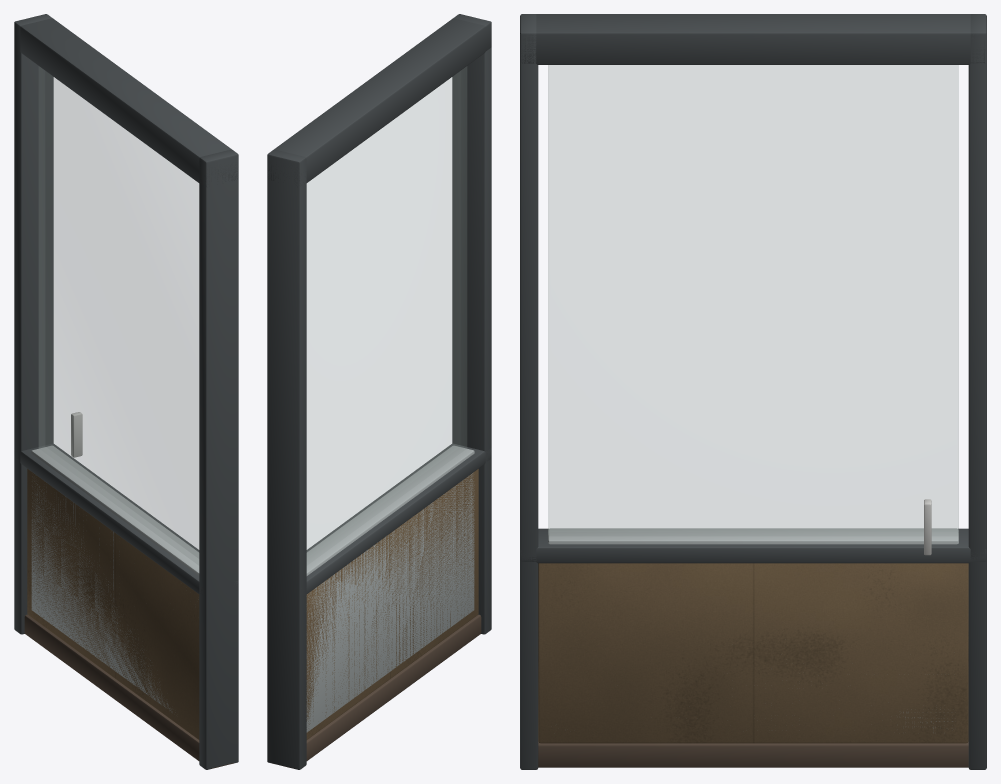
The model's file is outpost_glass_door.glb.
3 views of the same model, side by side, from view 1: azimuth 30°, elevation 25°; view 2: azimuth 150°, elevation 25°; view 3: azimuth 270°, elevation 25° (orthographic). The views are drawn at different scales.
Parts seen in each view (by area): view 1: doorglass, endpost, dado, endpost.001, doorpanel, header, sill, cove, pullhandle; view 2: doorglass, doorpanel, endpost.001, endpost, dado, header, sill, cove; view 3: doorglass, dado, header, endpost.001, endpost, cove, sill, doorpanel.
Boxes of the visible parts, x1,y1,x2,y2 form: doorglass: (39,66,198,564); endpost: (199,149,238,769); dado: (27,469,199,739); endpost.001: (14,14,53,634); doorpanel: (31,445,199,712); header: (20,18,238,186); sill: (14,443,238,594); cove: (24,614,233,768); pullhandle: (71,412,82,457); doorglass: (307,66,466,564); doorpanel: (306,445,474,732); endpost.001: (267,149,306,769); endpost: (452,14,491,634); dado: (306,469,478,739); header: (267,18,491,183); sill: (268,443,491,595); cove: (272,614,481,768); doorglass: (548,65,958,535); dado: (538,563,968,743); header: (521,14,985,64); endpost.001: (968,14,986,769); endpost: (520,14,538,769); cove: (538,742,968,767); sill: (520,528,986,563); doorpanel: (548,528,958,732).
Size of the model in its own units: 0.235 by 3.14 by 1.8.
6 materials, 1 textured.
